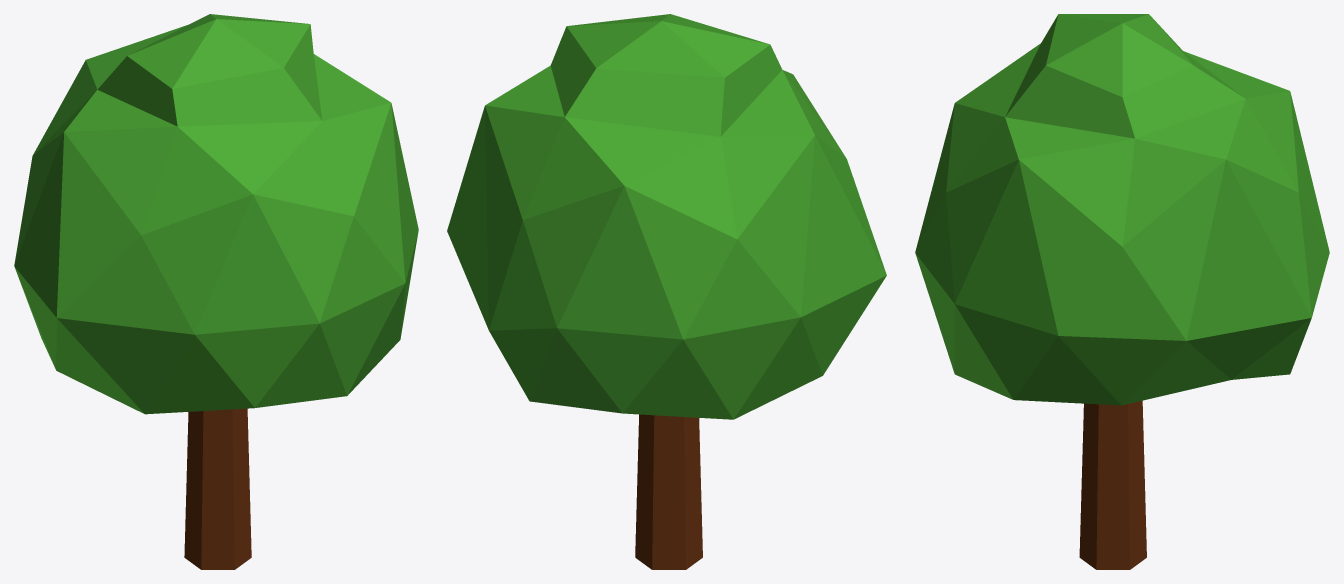
The model's file is centeredtree.fbx.
The picture shows the model from 3 angles, left to right: view 1: azimuth 30°, elevation 25°; view 2: azimuth 150°, elevation 25°; view 3: azimuth 270°, elevation 25°; orthographic projection.
Visible parts, largest first — view 1: maple tree; view 2: maple tree; view 3: maple tree.
Part boxes in pixels (bbox=[...]): maple tree: bbox=[14, 14, 418, 569]; maple tree: bbox=[447, 14, 886, 569]; maple tree: bbox=[915, 14, 1329, 569].
Size of the model in its own units: 794 by 1089 by 764.
